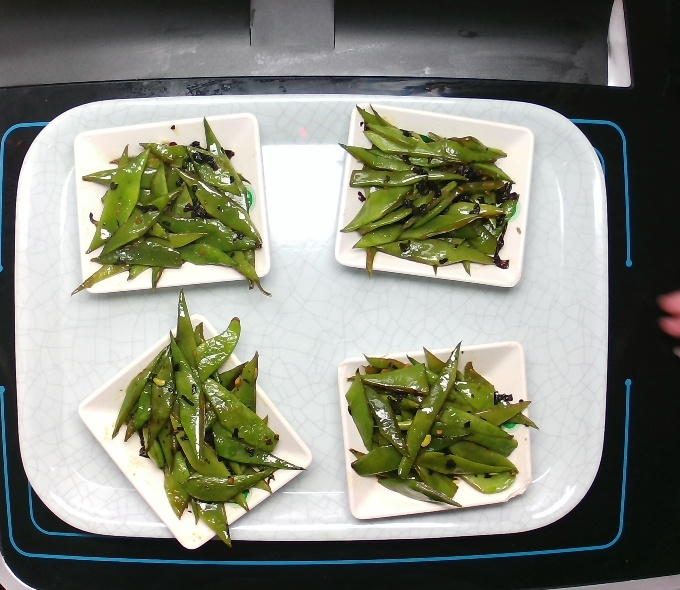wcq-ChaoSiJiDou: (107, 283, 311, 554), (66, 115, 282, 303), (329, 97, 524, 287), (340, 338, 543, 516)
